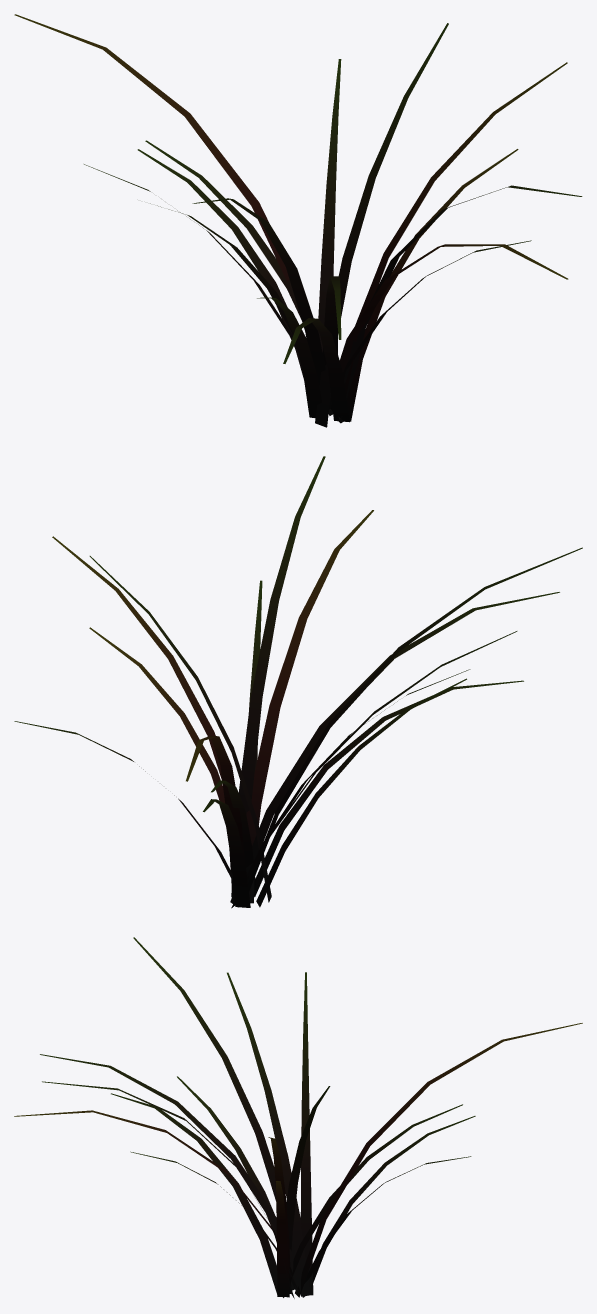
The model's file is elephant_grass_c.glb.
3 renders of one model, top to bottom at view 1: azimuth 30°, elevation 25°; view 2: azimuth 150°, elevation 25°; view 3: azimuth 270°, elevation 25°, orthographic. The views are drawn at different scales.
Parts seen in each view (by area): view 1: elephant_grass_c; view 2: elephant_grass_c; view 3: elephant_grass_c.
Boxes of the visible parts, x1=… form: elephant_grass_c: x1=14, y1=14, x2=582, y2=427; elephant_grass_c: x1=14, y1=456, x2=582, y2=908; elephant_grass_c: x1=14, y1=937, x2=582, y2=1298.
Bounding box in the file's own units: 2.5 × 1.8 × 3.5.
1 material, 1 textured.
